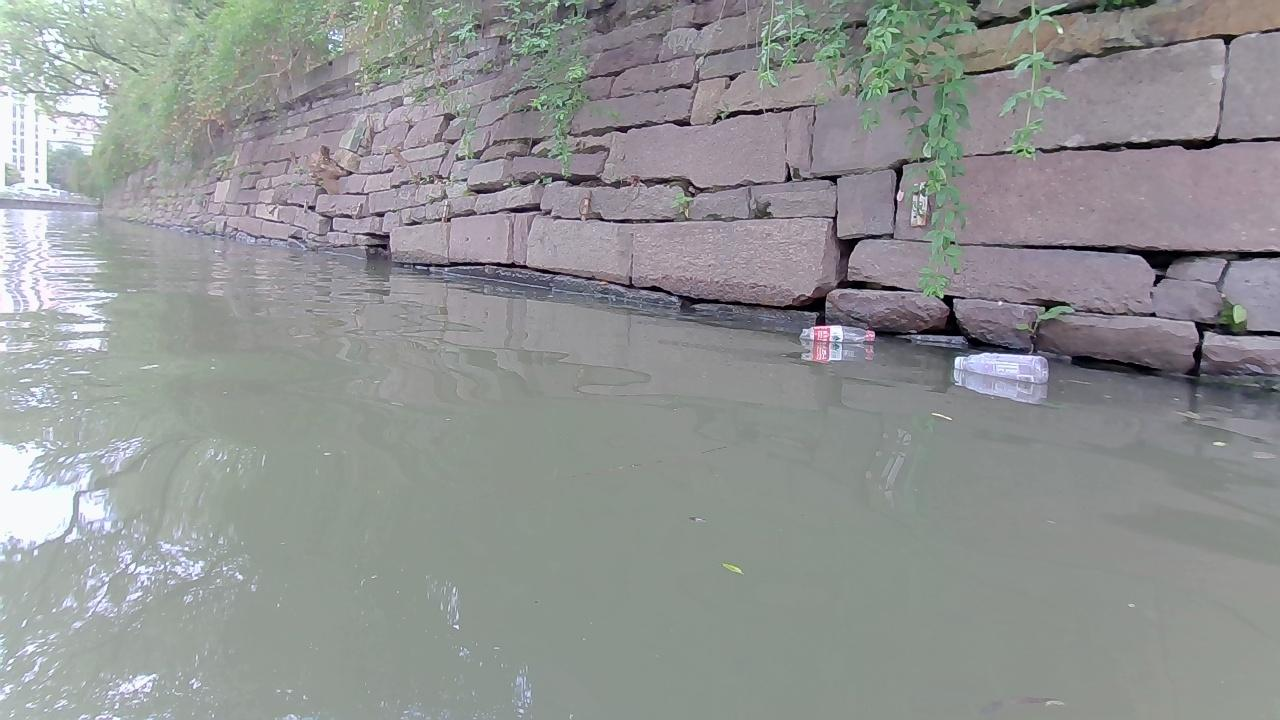bottle: (953, 351, 1049, 381), (798, 323, 875, 342)
